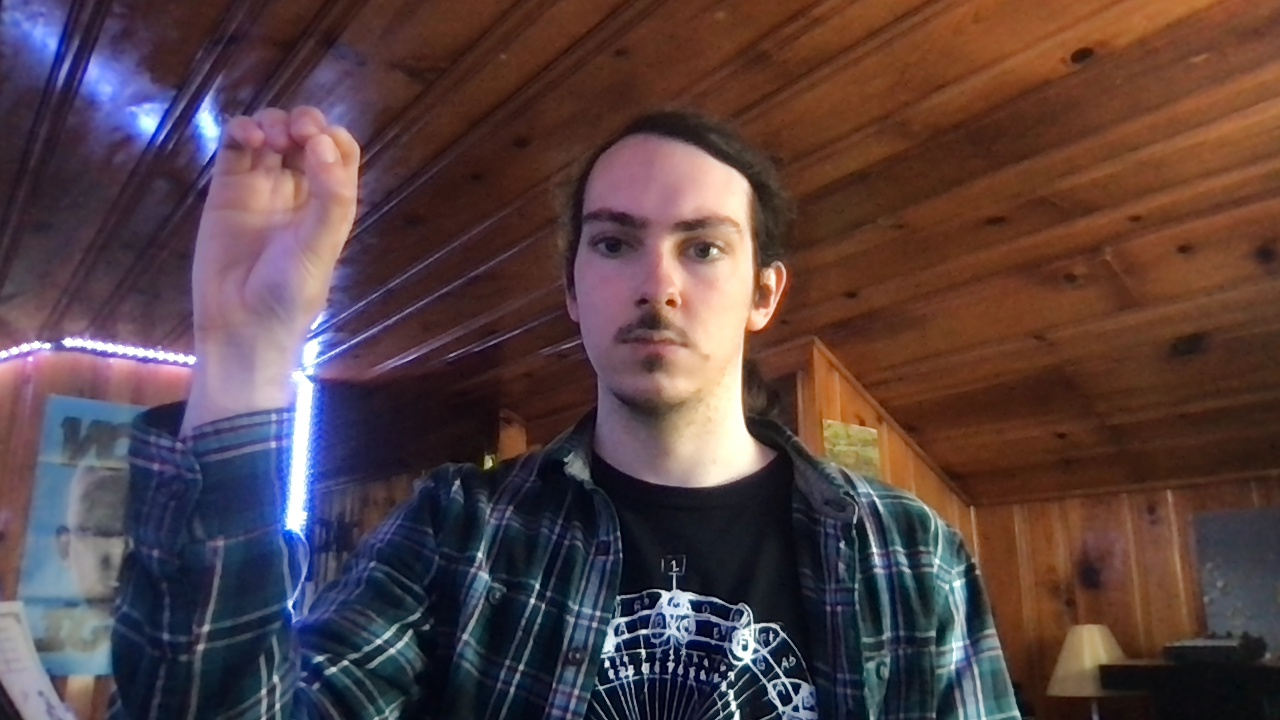o: (189, 104, 361, 330)
